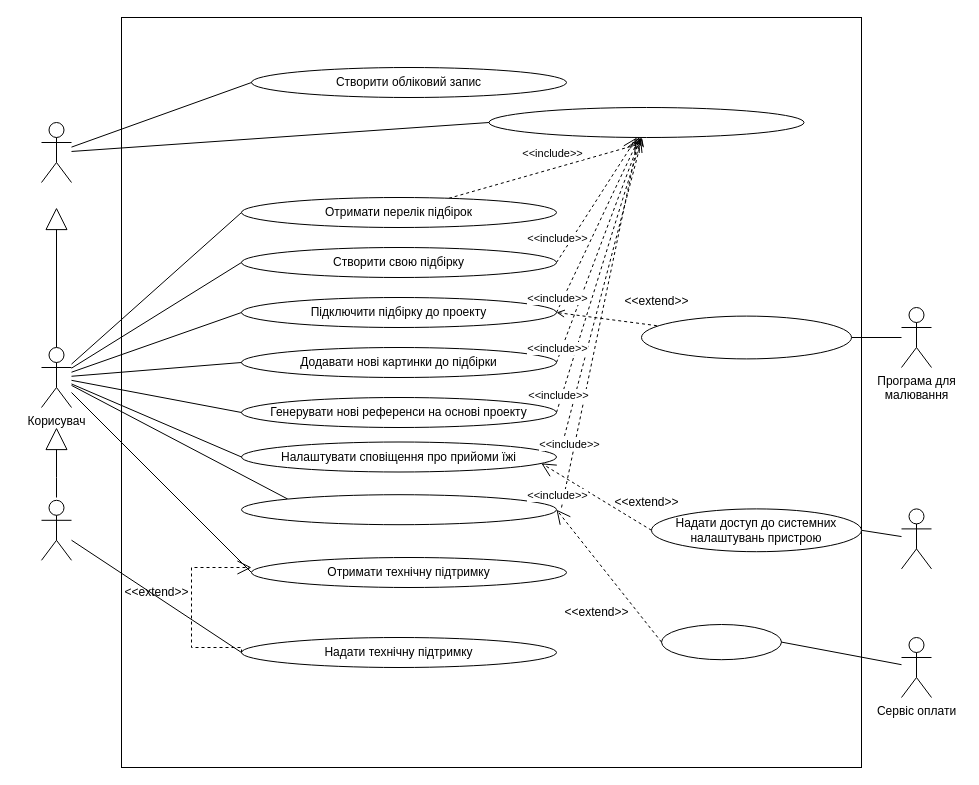
Image size: 979x785. Some labels were removed from this diagram. Each missing label, with the centre of its shape:
API зовнішнього пристрою: (x=916, y=538)
Авторизувати користувача: (x=646, y=122)
Адміністратор: (x=56, y=529)
Гість: (x=56, y=152)
Обрати ПО для підключення: (x=746, y=337)
Платіжна система: (x=721, y=642)
Сплатити підписку: (x=398, y=509)
